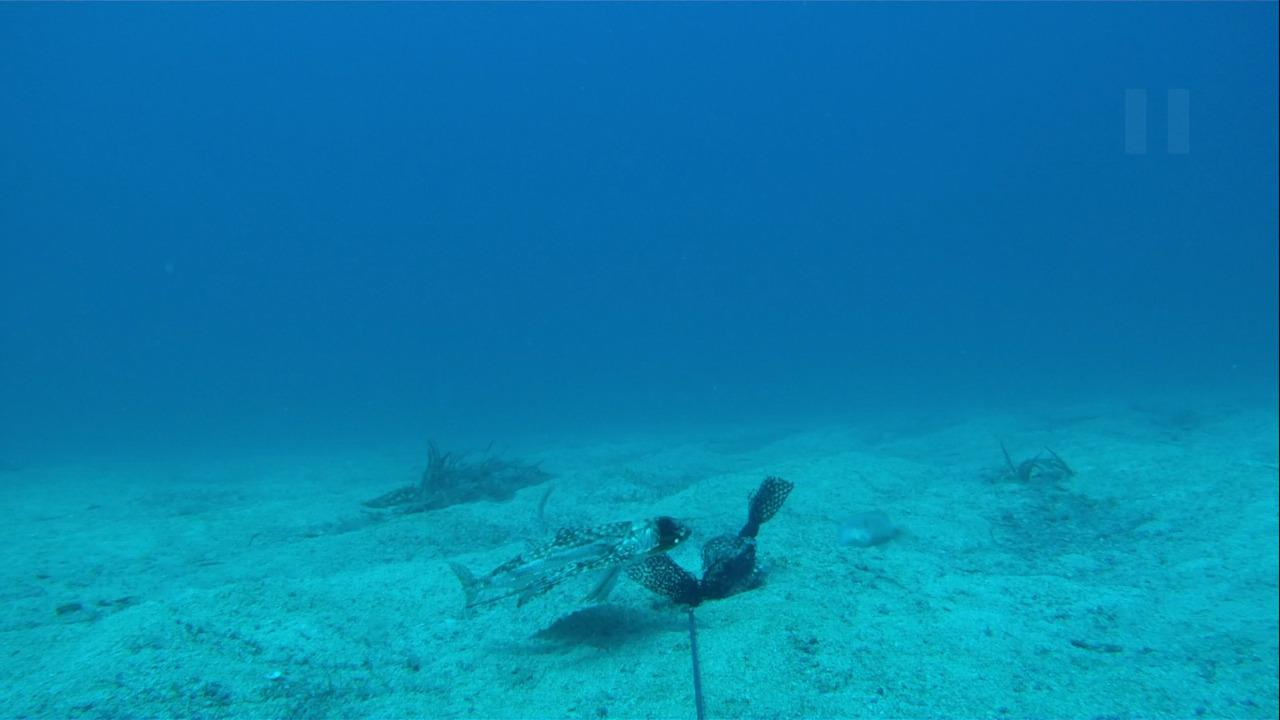dactylopterus: (438, 484, 694, 623)
raor: (821, 504, 908, 551)
